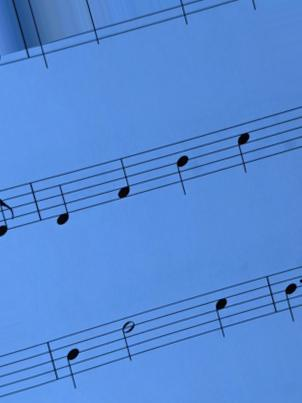B: (168, 140, 197, 202), (60, 331, 89, 392), (276, 267, 298, 340)
D: (52, 170, 76, 231)
F: (107, 153, 138, 213)
HC: (231, 121, 257, 180), (209, 288, 234, 342)
